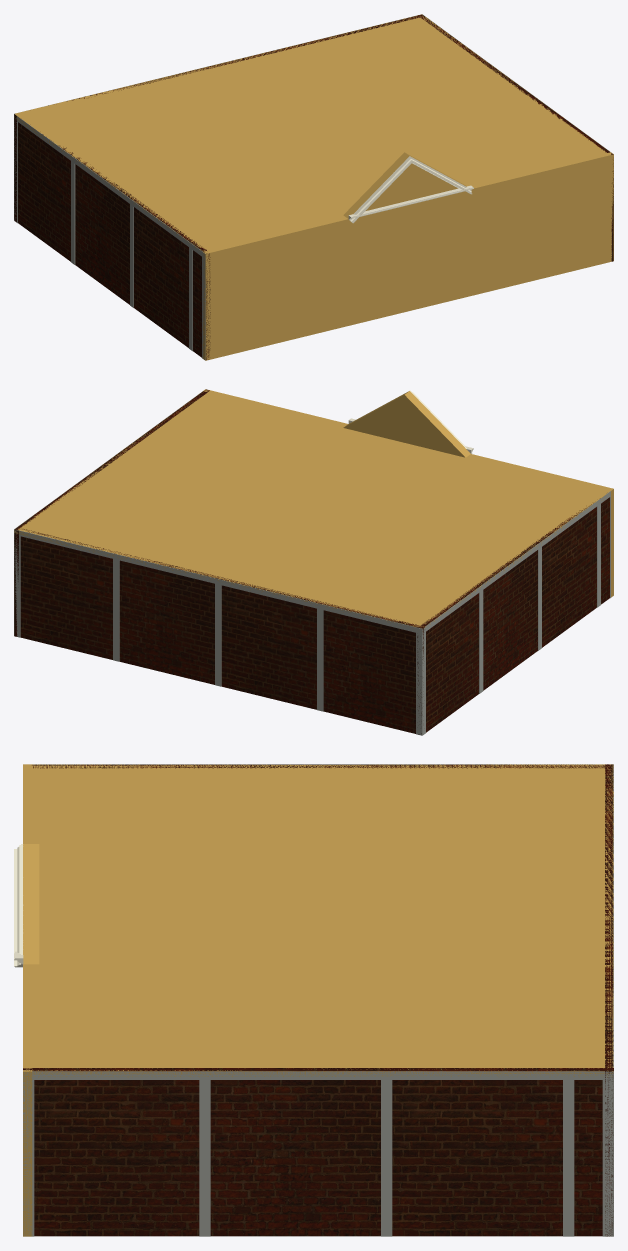
Rendered from building.glb.
The picture shows the model from 3 angles, top to bottom: view 1: azimuth 30°, elevation 25°; view 2: azimuth 150°, elevation 25°; view 3: azimuth 270°, elevation 25°; orthographic projection. The views are drawn at different scales.
Parts seen in each view (by area): view 1: roof/house:0/roof_slab#0001, house:0/edge0/z0/house:0/edge0/z0/wall_0_0, house:0/edge3/z0/house:0/edge3/z0/wall_0_0, crown/coronamiento/crown_body#0001, house:0/edge2/z0/house:0/edge2/z0/wall_0_0, house:0/edge3/z0/house:0/edge3/z0/beam_0_0, house:0/edge1/z0/house:0/edge1/z0/wall_0_0, crown/coronamiento/crown_moulding#0001, crown/coronamiento/crown_base_cornice#0001, house:0/edge3/z0/house:0/edge3/z0/column_2_0; view 2: roof/house:0/roof_slab#0001, house:0/edge2/z0/house:0/edge2/z0/wall_0_0, house:0/edge3/z0/house:0/edge3/z0/wall_0_0, crown/coronamiento/crown_body#0001, house:0/edge2/z0/house:0/edge2/z0/beam_0_0, house:0/edge1/z0/house:0/edge1/z0/wall_0_0, house:0/edge0/z0/house:0/edge0/z0/wall_0_0, house:0/edge3/z0/house:0/edge3/z0/beam_0_0, house:0/edge2/z0/house:0/edge2/z0/column_4_0, house:0/edge2/z0/house:0/edge2/z0/column_2_0, house:0/edge2/z0/house:0/edge2/z0/column_1_0, house:0/edge2/z0/house:0/edge2/z0/column_3_0 (+2 smaller); view 3: roof/house:0/roof_slab#0001, house:0/edge1/z0/house:0/edge1/z0/wall_0_0, house:0/edge1/z0/house:0/edge1/z0/beam_0_0, house:0/edge0/z0/house:0/edge0/z0/wall_0_0, house:0/edge2/z0/house:0/edge2/z0/wall_0_0, house:0/edge3/z0/house:0/edge3/z0/wall_0_0, house:0/edge1/z0/house:0/edge1/z0/column_1_0, house:0/edge1/z0/house:0/edge1/z0/column_2_0, house:0/edge1/z0/house:0/edge1/z0/column_3_0, house:0/edge1/z0/house:0/edge1/z0/column_4_0, crown/coronamiento/crown_body#0001, house:0/edge1/z0/house:0/edge1/z0/column_0_0 (+1 smaller).
Boxes of the visible parts, left/top/right/bottom form: roof/house:0/roof_slab#0001: left=14, top=14, right=613, bottom=255; house:0/edge0/z0/house:0/edge0/z0/wall_0_0: left=202, top=152, right=613, bottom=360; house:0/edge3/z0/house:0/edge3/z0/wall_0_0: left=18, top=122, right=210, bottom=359; crown/coronamiento/crown_body#0001: left=343, top=152, right=466, bottom=218; house:0/edge2/z0/house:0/edge2/z0/wall_0_0: left=14, top=14, right=423, bottom=222; house:0/edge3/z0/house:0/edge3/z0/beam_0_0: left=14, top=113, right=205, bottom=258; house:0/edge1/z0/house:0/edge1/z0/wall_0_0: left=418, top=14, right=613, bottom=261; crown/coronamiento/crown_moulding#0001: left=349, top=156, right=472, bottom=223; crown/coronamiento/crown_base_cornice#0001: left=348, top=185, right=473, bottom=219; house:0/edge3/z0/house:0/edge3/z0/column_2_0: left=71, top=161, right=75, bottom=264; roof/house:0/roof_slab#0001: left=14, top=391, right=612, bottom=627; house:0/edge2/z0/house:0/edge2/z0/wall_0_0: left=20, top=529, right=424, bottom=733; house:0/edge3/z0/house:0/edge3/z0/wall_0_0: left=417, top=497, right=609, bottom=734; crown/coronamiento/crown_body#0001: left=343, top=391, right=469, bottom=457; house:0/edge2/z0/house:0/edge2/z0/beam_0_0: left=14, top=529, right=422, bottom=633; house:0/edge1/z0/house:0/edge1/z0/wall_0_0: left=14, top=389, right=209, bottom=636; house:0/edge0/z0/house:0/edge0/z0/wall_0_0: left=203, top=389, right=613, bottom=597; house:0/edge3/z0/house:0/edge3/z0/beam_0_0: left=422, top=491, right=610, bottom=633; house:0/edge2/z0/house:0/edge2/z0/column_4_0: left=317, top=608, right=323, bottom=711; house:0/edge2/z0/house:0/edge2/z0/column_2_0: left=113, top=559, right=119, bottom=661; house:0/edge2/z0/house:0/edge2/z0/column_1_0: left=416, top=633, right=422, bottom=735; house:0/edge2/z0/house:0/edge2/z0/column_3_0: left=215, top=584, right=221, bottom=686; roof/house:0/roof_slab#0001: left=23, top=764, right=613, bottom=1077; house:0/edge1/z0/house:0/edge1/z0/wall_0_0: left=23, top=1068, right=613, bottom=1236; house:0/edge1/z0/house:0/edge1/z0/beam_0_0: left=23, top=1071, right=613, bottom=1079; house:0/edge0/z0/house:0/edge0/z0/wall_0_0: left=23, top=764, right=32, bottom=1236; house:0/edge2/z0/house:0/edge2/z0/wall_0_0: left=605, top=764, right=613, bottom=1236; house:0/edge3/z0/house:0/edge3/z0/wall_0_0: left=32, top=764, right=604, bottom=768; house:0/edge1/z0/house:0/edge1/z0/column_1_0: left=602, top=1080, right=613, bottom=1236; house:0/edge1/z0/house:0/edge1/z0/column_2_0: left=199, top=1080, right=210, bottom=1236; house:0/edge1/z0/house:0/edge1/z0/column_3_0: left=381, top=1080, right=392, bottom=1236; house:0/edge1/z0/house:0/edge1/z0/column_4_0: left=563, top=1080, right=574, bottom=1236; crown/coronamiento/crown_body#0001: left=25, top=844, right=39, bottom=964; house:0/edge1/z0/house:0/edge1/z0/column_0_0: left=23, top=1080, right=34, bottom=1236.
Size of the model in its own units: 16 by 5.8 by 13.2.
Materials: 4 (1 with a texture image).
